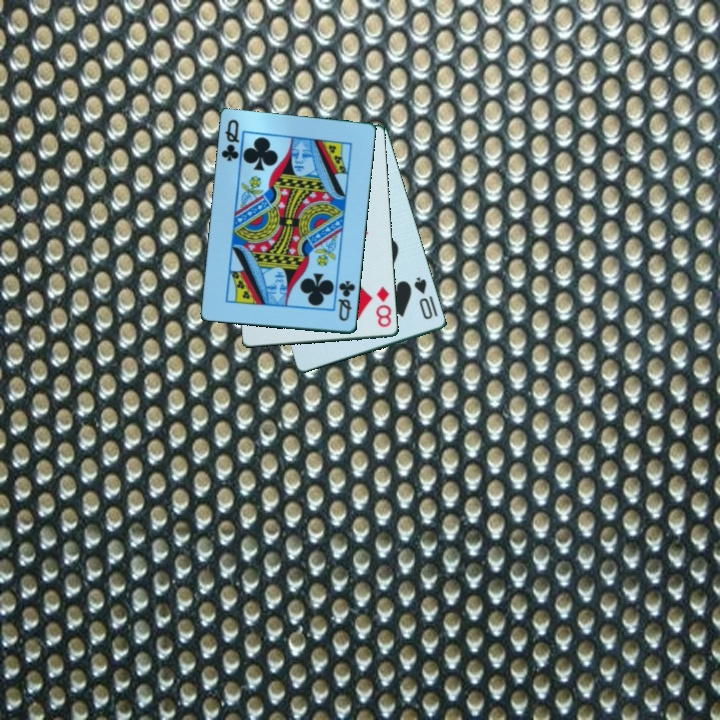10s: (411, 274, 441, 323)
8d: (373, 283, 395, 330)
Qc: (218, 116, 243, 164), (335, 278, 358, 324)
